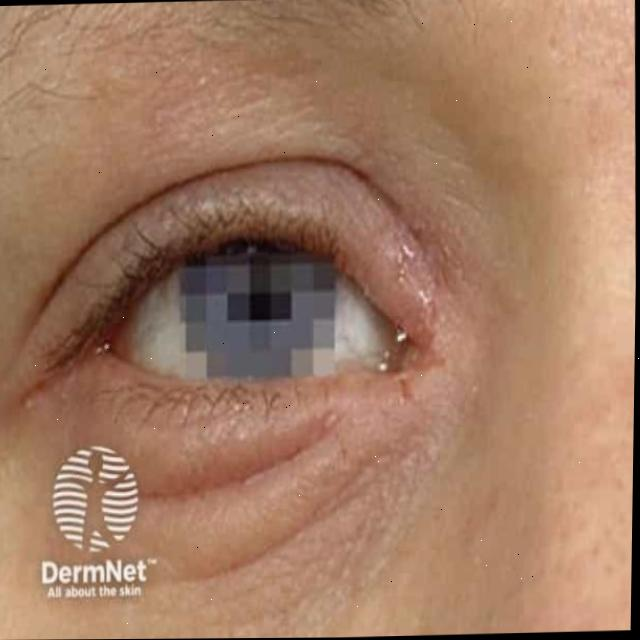Eczema: (409, 245, 448, 326)
